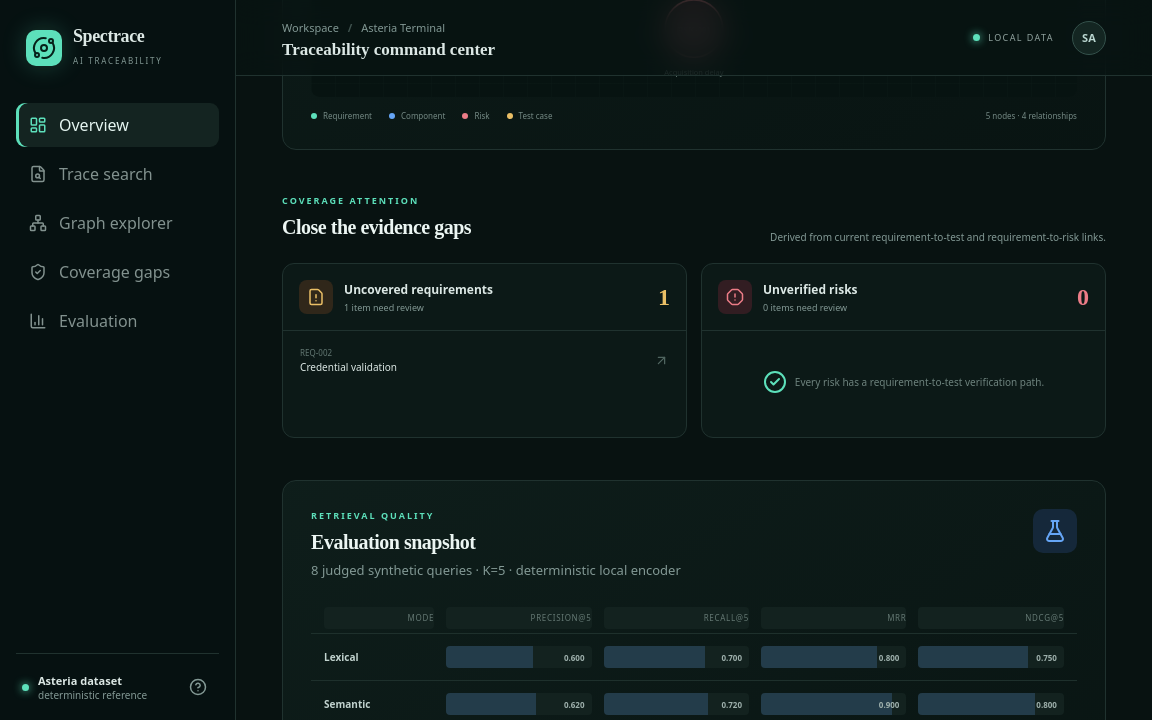
Test case: executive dashboard › loads backend metrics and opens linked artifact details
(page scrolled)
Click the button "REQ-002 Credential validation" at coordinates (316, 353), box x1=293 y1=337 x2=676 y2=384
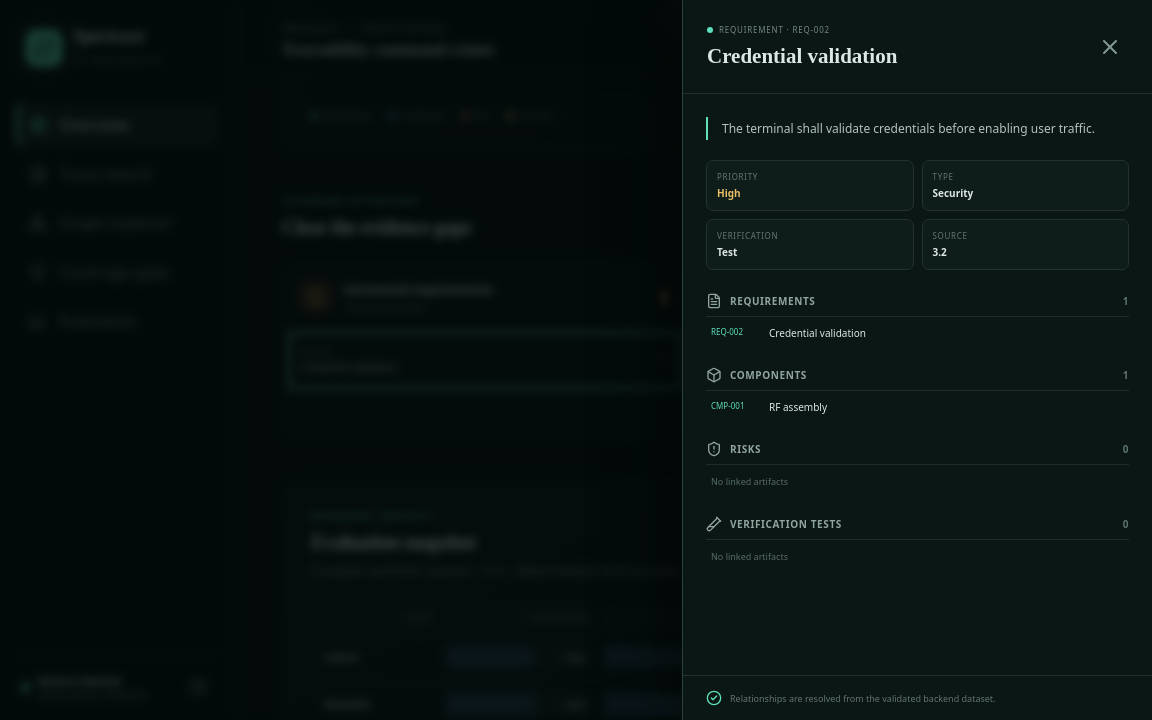
expect the dialog "Credential validation" is shown: met, box x1=682 y1=0 x2=1151 y2=719
expect the text "validate credentials before enabling user traffic" is shown: met, box x1=722 y1=120 x2=1095 y2=137
